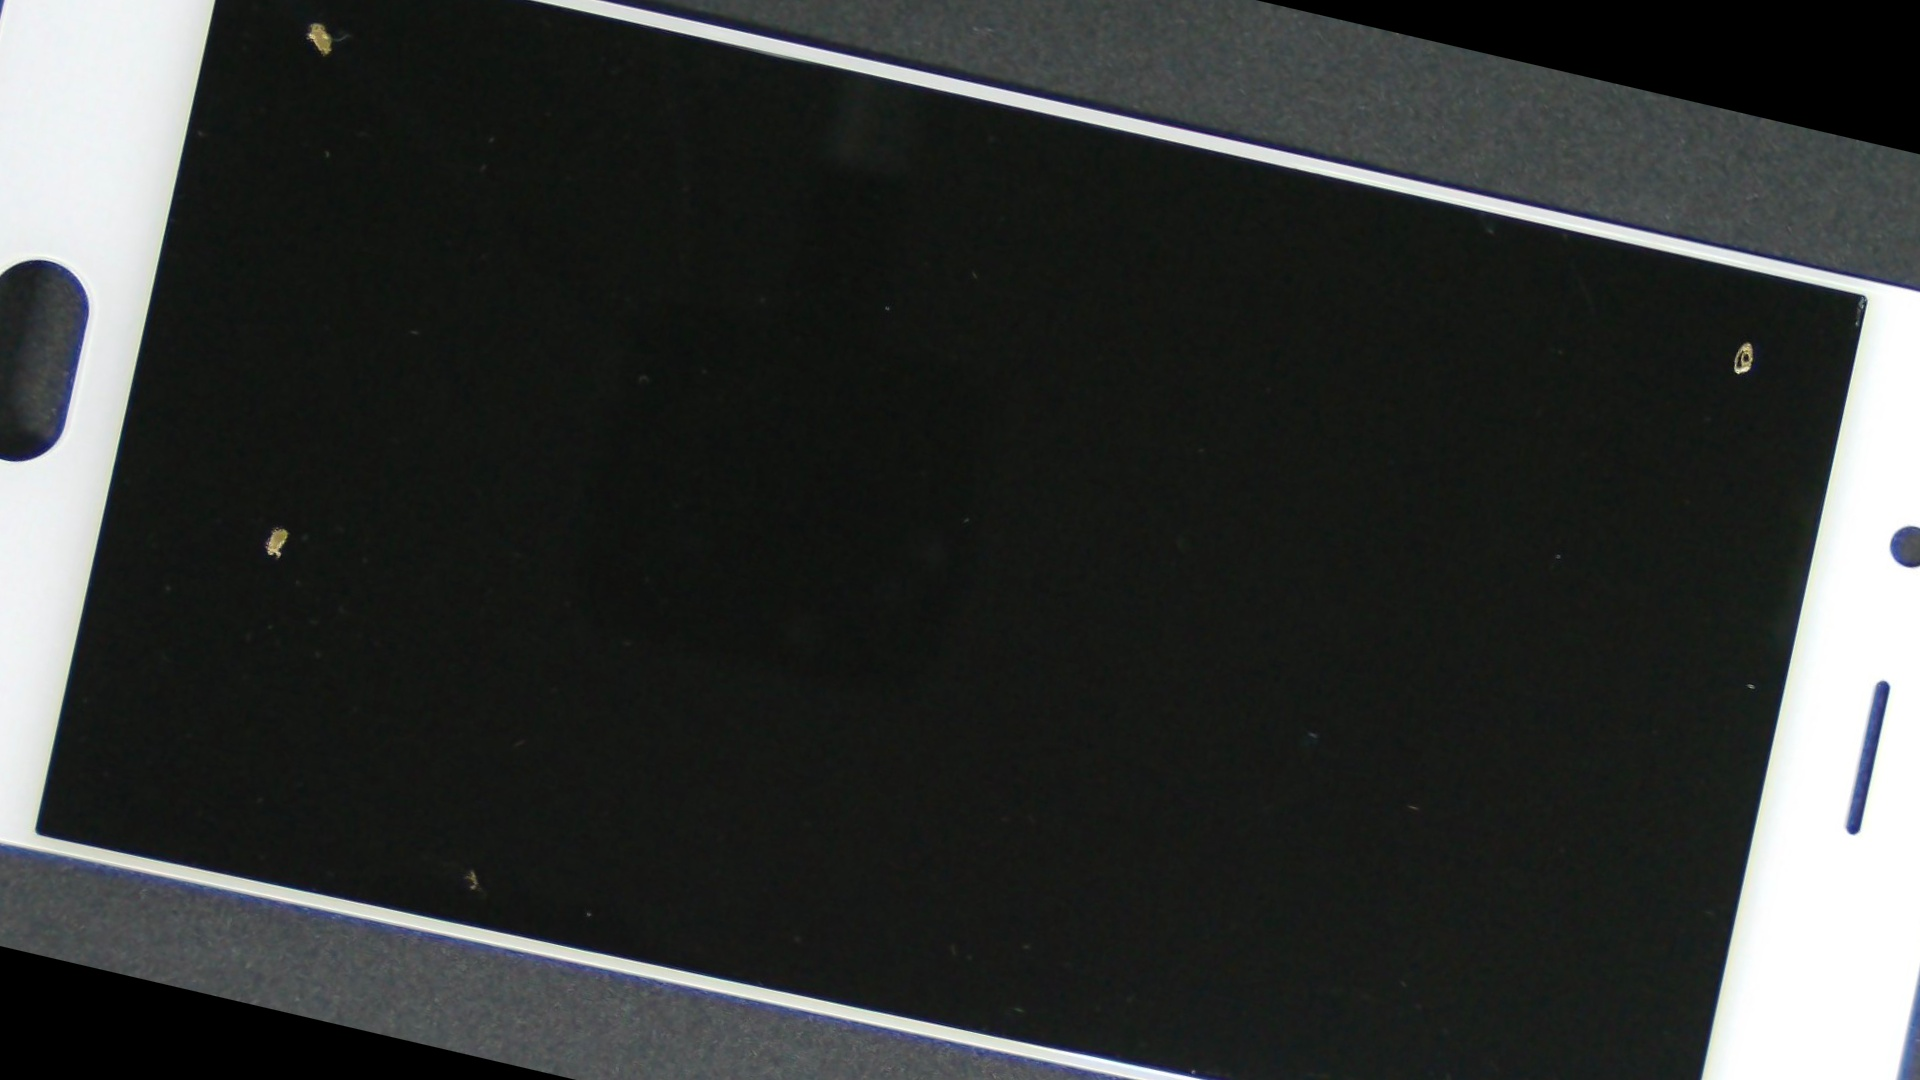oil: (92, 289, 927, 1080), (836, 26, 1920, 541), (0, 119, 572, 931), (119, 0, 524, 178)
